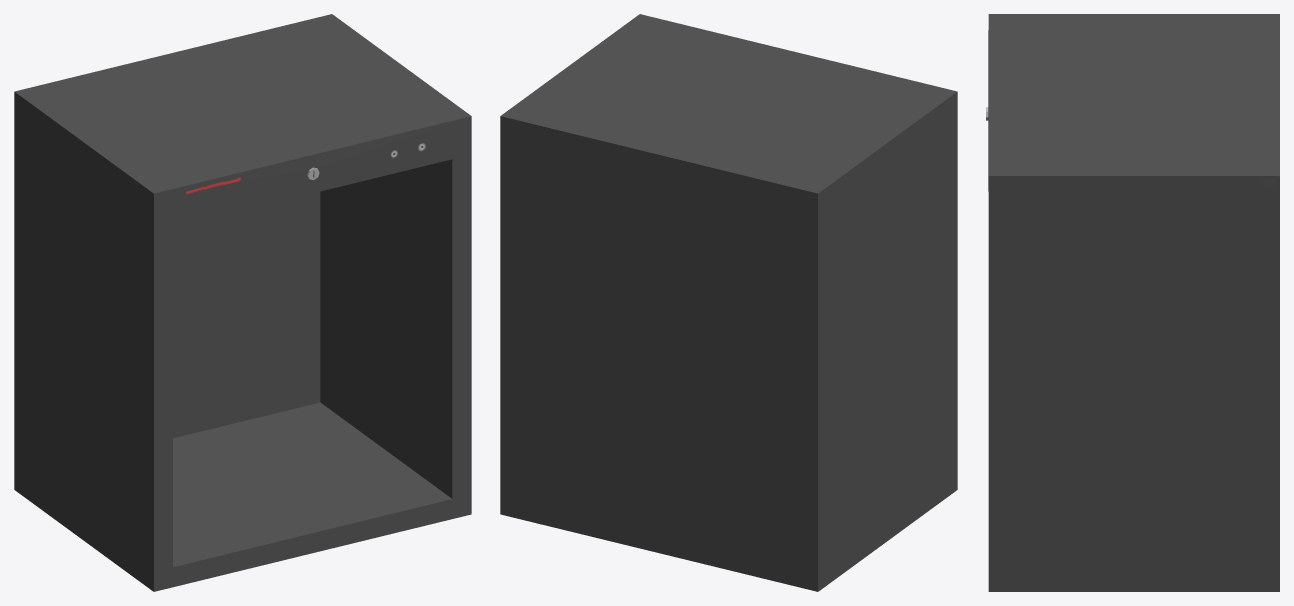
The model's file is MedCartSplit.fbx.
3 views of the same model, side by side, from view 1: azimuth 30°, elevation 25°; view 2: azimuth 150°, elevation 25°; view 3: azimuth 270°, elevation 25° (orthographic). The views are drawn at different scales.
Parts seen in each view (by area): view 1: Cart.002, Cart.003, Cart.004, Cart.005, Cart; view 2: Cart, Cart.002, Cart.003, Cart.004; view 3: Cart.004, Cart.002.
Boxes of the visible parts, x1=… form: Cart.002: x1=14, y1=14, x2=471, y2=231; Cart.003: x1=14, y1=130, x2=172, y2=591; Cart.004: x1=320, y1=154, x2=471, y2=518; Cart.005: x1=173, y1=402, x2=452, y2=587; Cart: x1=173, y1=191, x2=320, y2=438; Cart: x1=519, y1=159, x2=798, y2=587; Cart.002: x1=500, y1=14, x2=957, y2=231; Cart.003: x1=799, y1=130, x2=957, y2=591; Cart.004: x1=500, y1=154, x2=519, y2=518; Cart.004: x1=988, y1=216, x2=1279, y2=591; Cart.002: x1=986, y1=14, x2=1279, y2=216.
Size of the model in its own units: 96 by 115 by 73.63.
